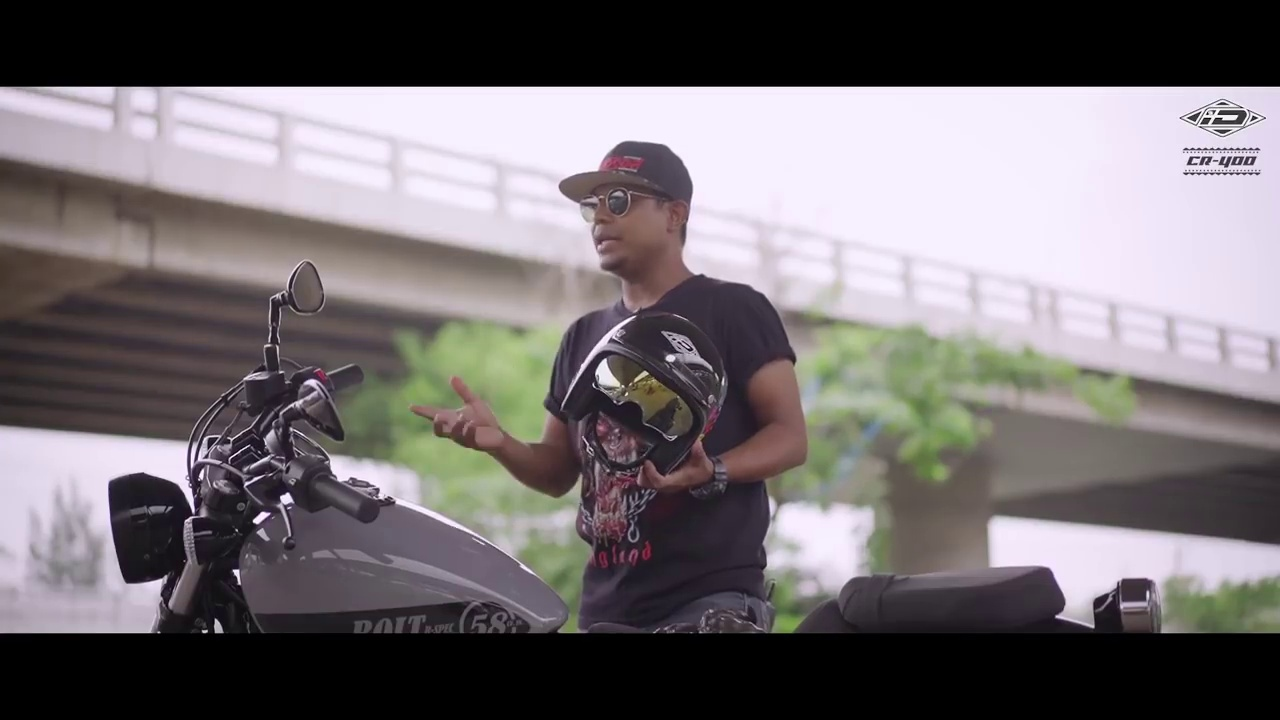helmet: (553, 302, 726, 462)
